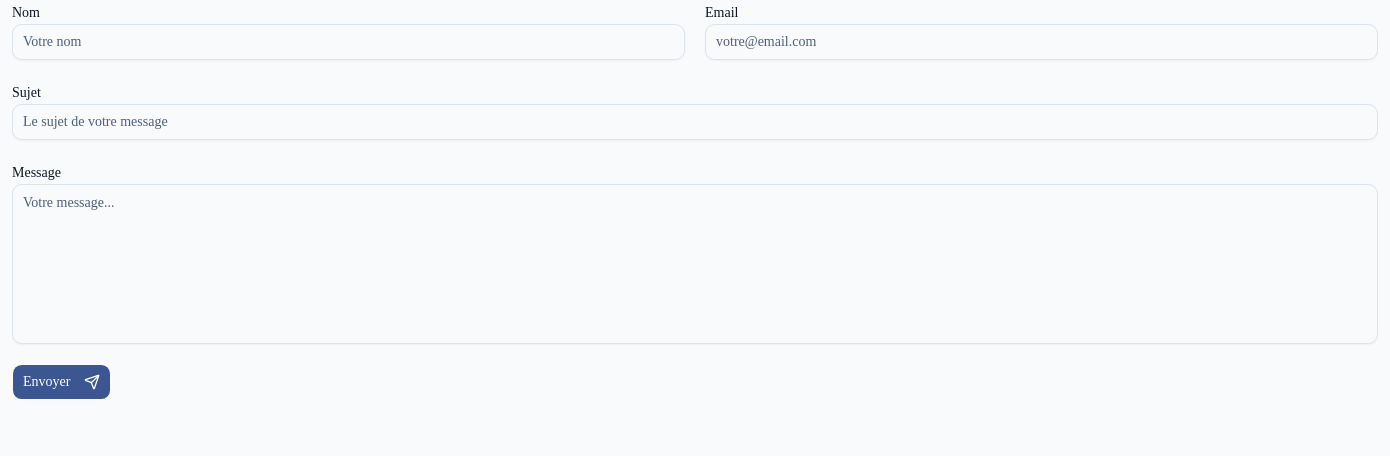
Test case: ContactForm › affiche une erreur si la requête échoue
In the field labelled "Nom": (348, 42) [12,24,685,60], type "Jean Dupont"
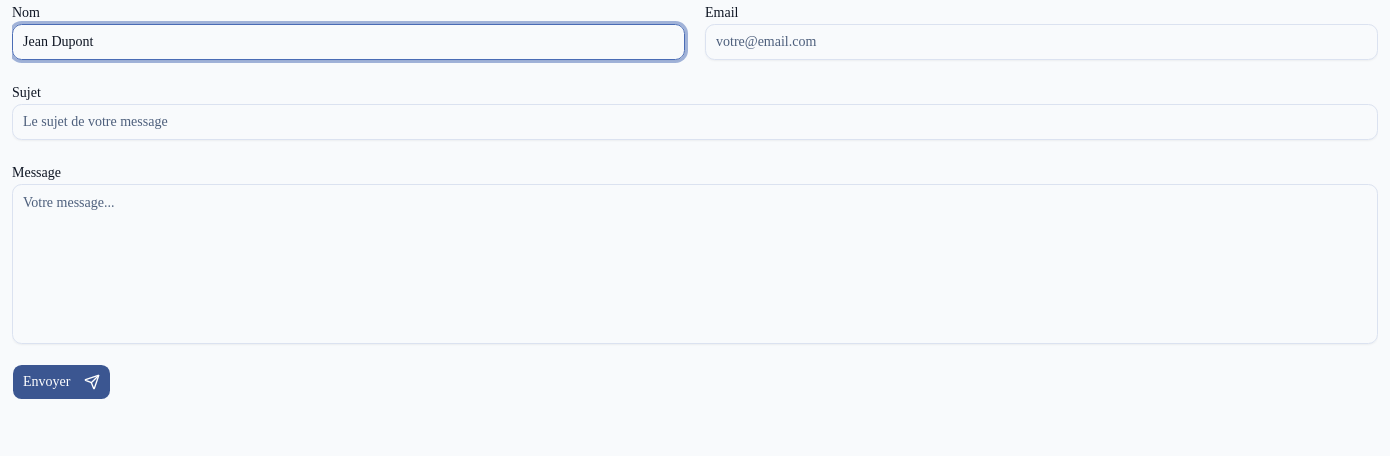
In the field labelled "Email": (1042, 42) [705,24,1378,60], type "jean@example.com"
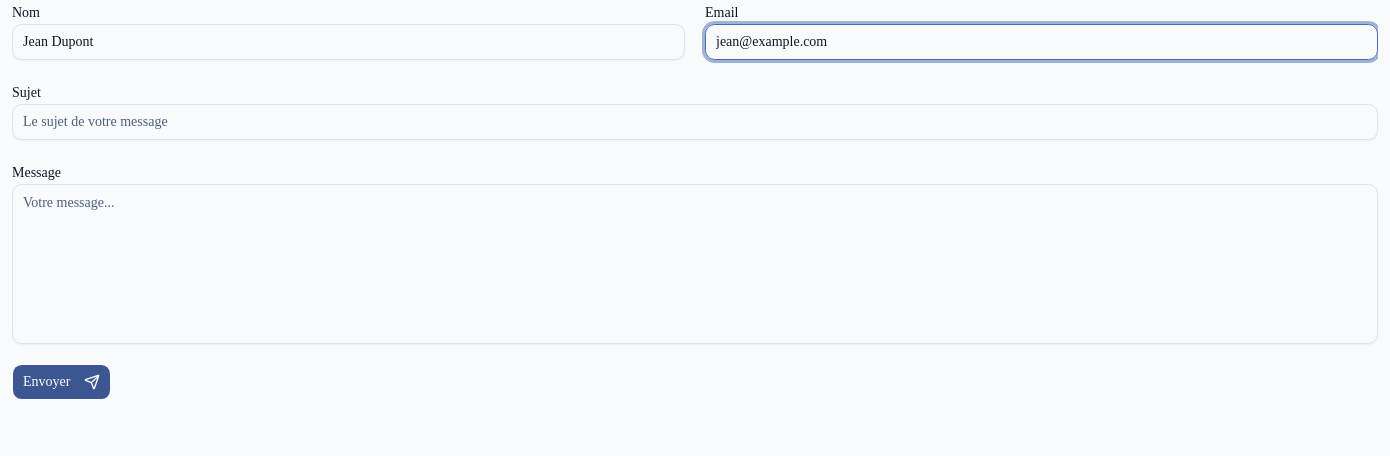
In the field labelled "Sujet": (695, 122) [12,104,1378,140], type "Projet"
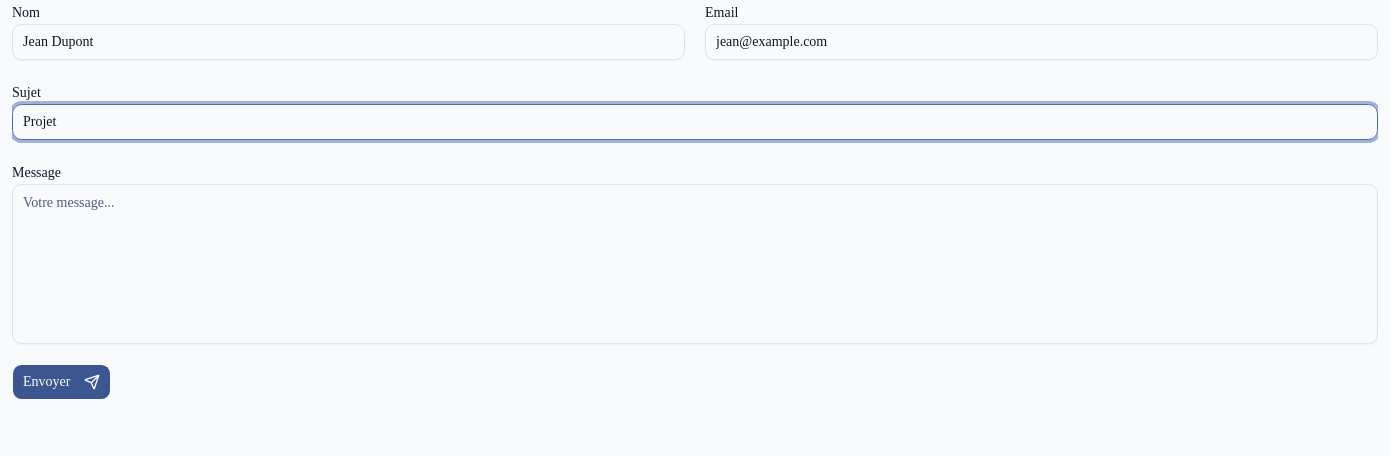
In the text box labelled "Message": (695, 264) [12,184,1378,344], type "Bonjour, je vous contacte pour..."
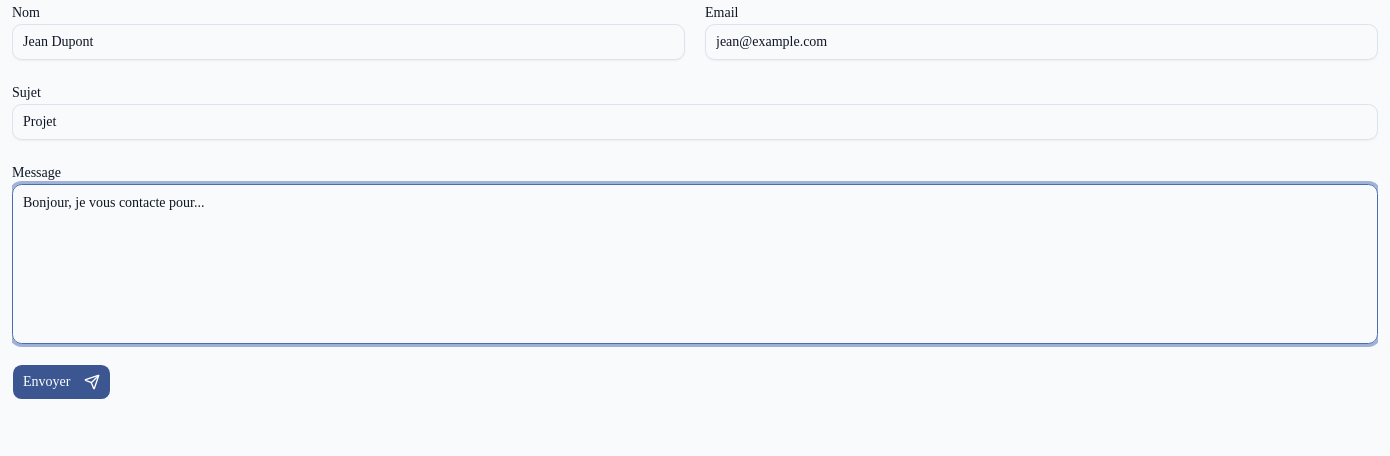
Click the button "Envoyer": click(62, 382) [12,364,111,400]
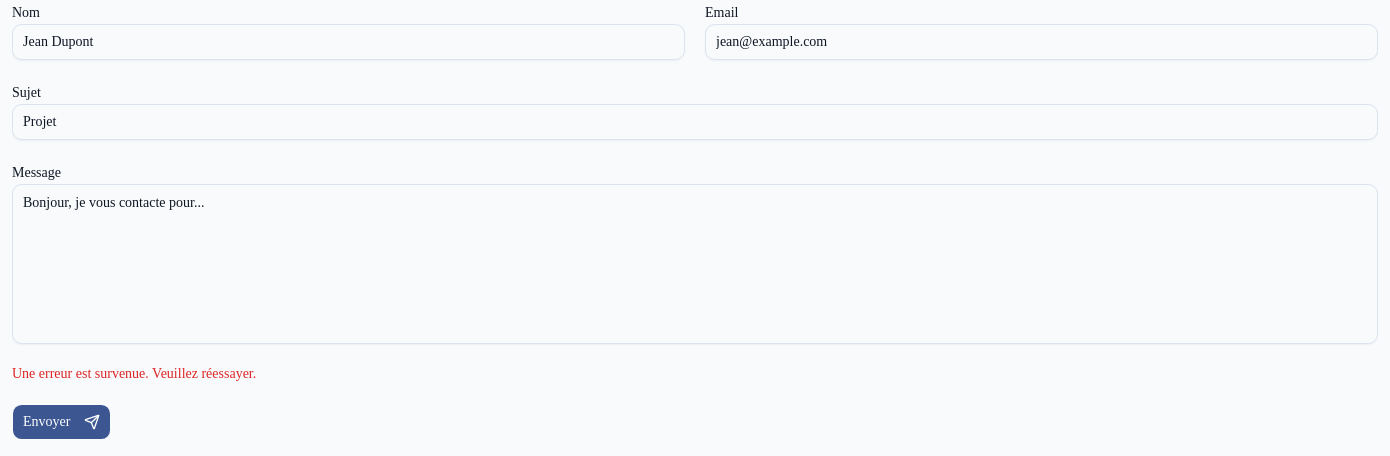
Result: the message reads "Une erreur est survenue. Veuillez réessayer." at [12,366,256,381]
